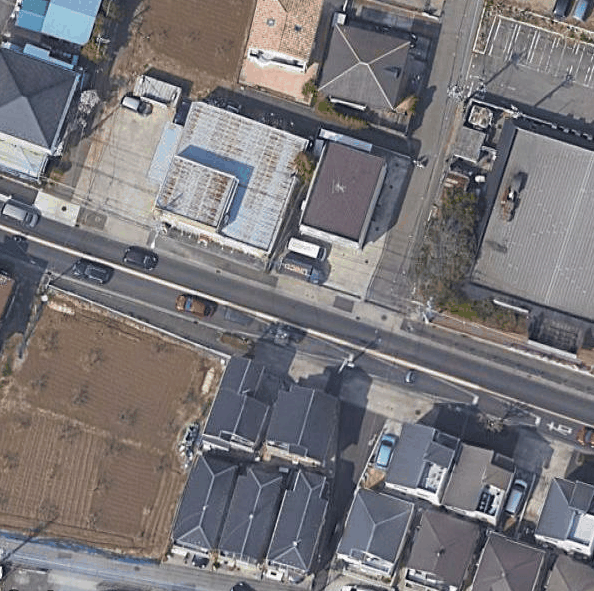flatroof: (151, 96, 310, 258)
